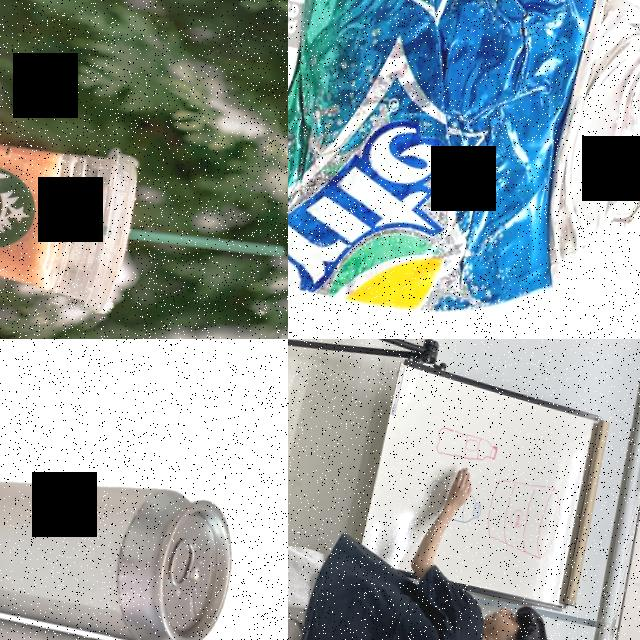can: (0, 430, 248, 640)
cup: (0, 91, 145, 320)
